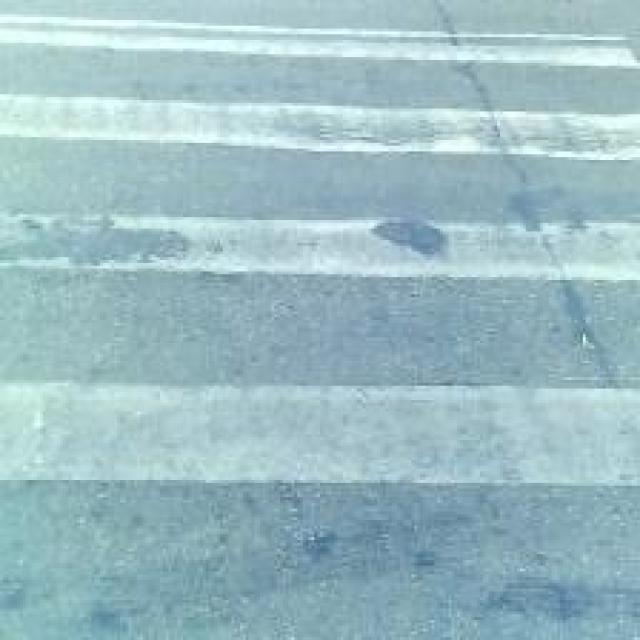walk-crossing: (4, 4, 596, 602)
